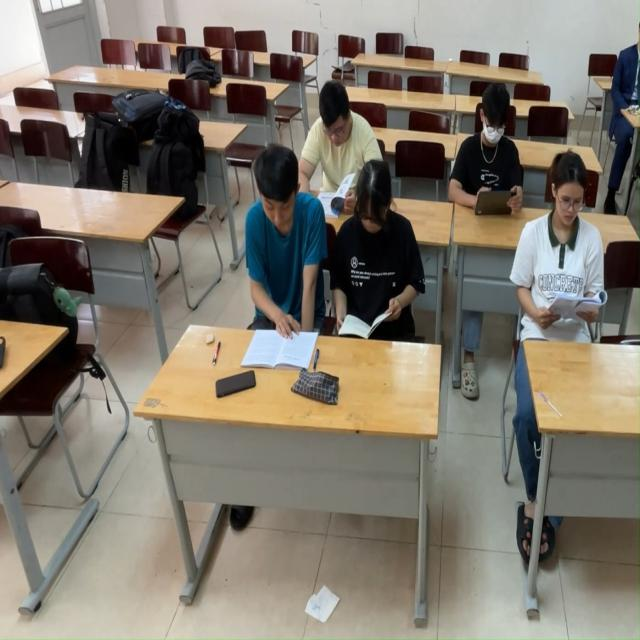read: (516, 141, 610, 343), (249, 138, 320, 378), (329, 170, 414, 363), (452, 77, 527, 218), (309, 77, 387, 207)
